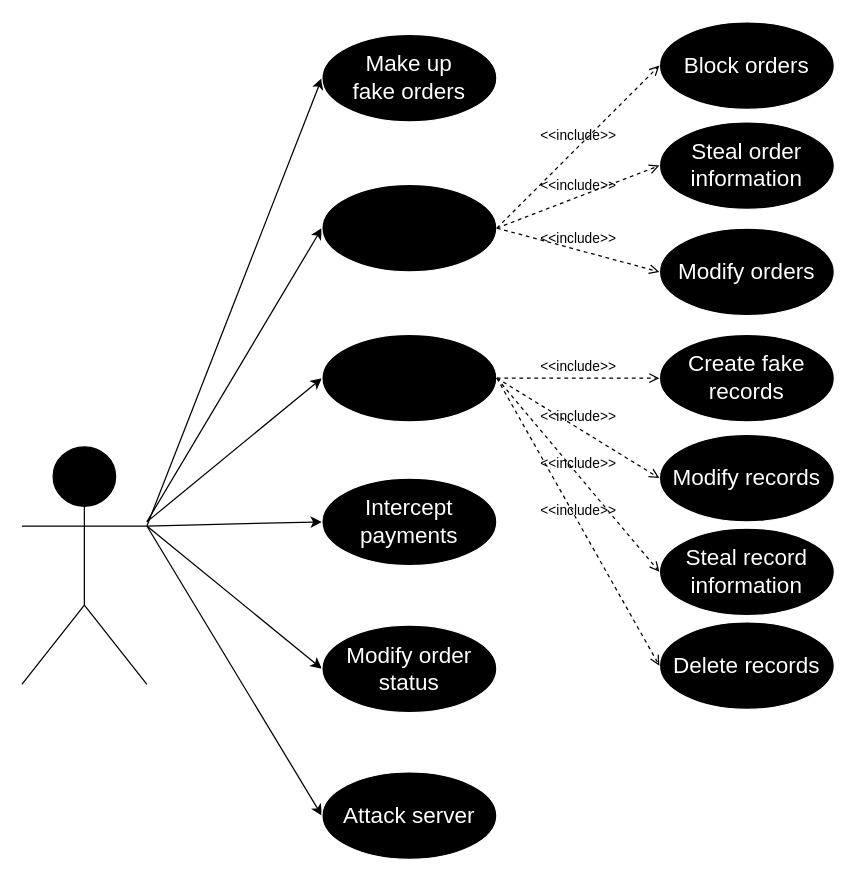
This 856x881 diagram has some shape labels left out. The box of each missing label's shape, as (x1, y1, x2, y2) in pixels:
Attacker: (21, 446, 147, 684)
Gain access to medical records: (321, 333, 497, 422)
Intercept orders: (321, 183, 497, 272)
